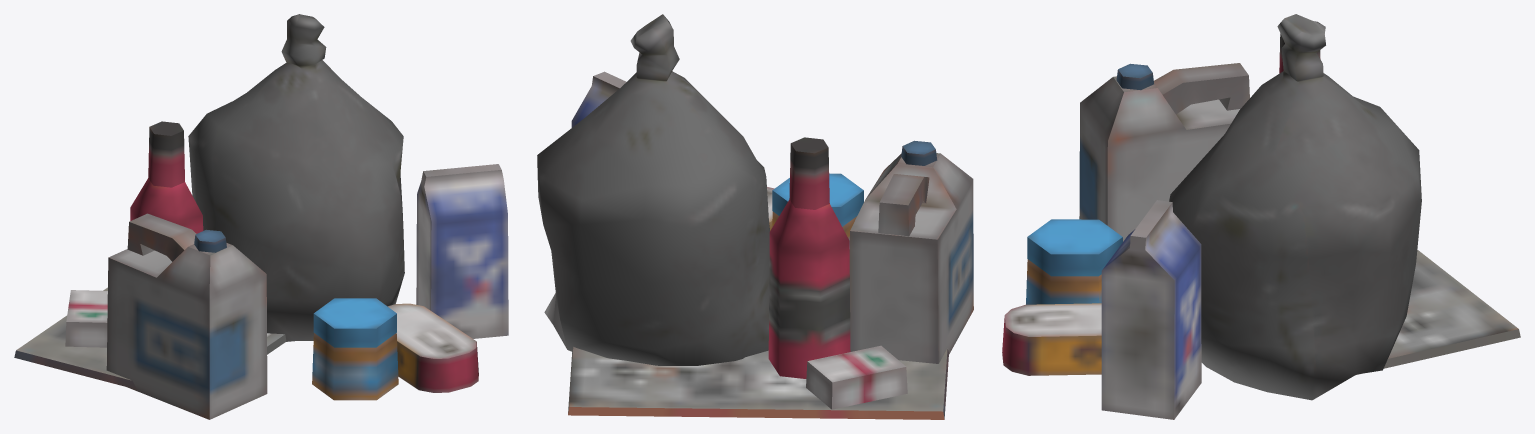
File: Pfb_Garbage.fbx
3 views of the same model, side by side, from view 1: azimuth 30°, elevation 25°; view 2: azimuth 150°, elevation 25°; view 3: azimuth 270°, elevation 25° (orthographic). The views are drawn at different scales.
Parts seen in each view (by area): view 1: Mat_Gargabe_01; view 2: Mat_Gargabe_01; view 3: Mat_Gargabe_01.
Boxes of the visible parts, x1,y1,x2,y2 form: Mat_Gargabe_01: (14, 14, 508, 419); Mat_Gargabe_01: (537, 14, 973, 419); Mat_Gargabe_01: (1002, 14, 1520, 419).
Size of the model in its own units: 1.61 by 1.1 by 1.53.
1 material, 1 textured.
